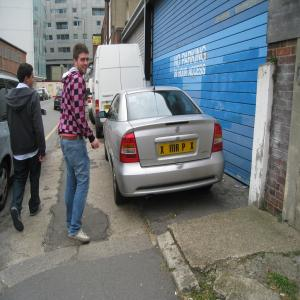Vehicle-registration-plate: (160, 142, 195, 156), (105, 104, 114, 112), (105, 106, 112, 110)
